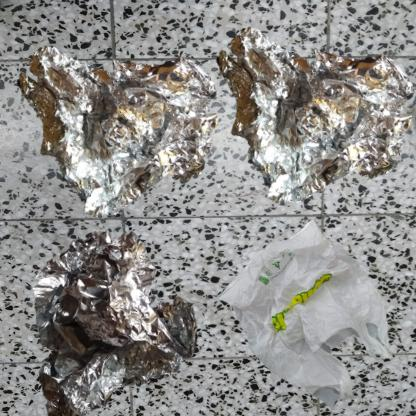aluminio: (10, 10, 246, 238), (10, 213, 223, 416), (213, 10, 416, 213)
bolsa: (213, 213, 400, 412)
